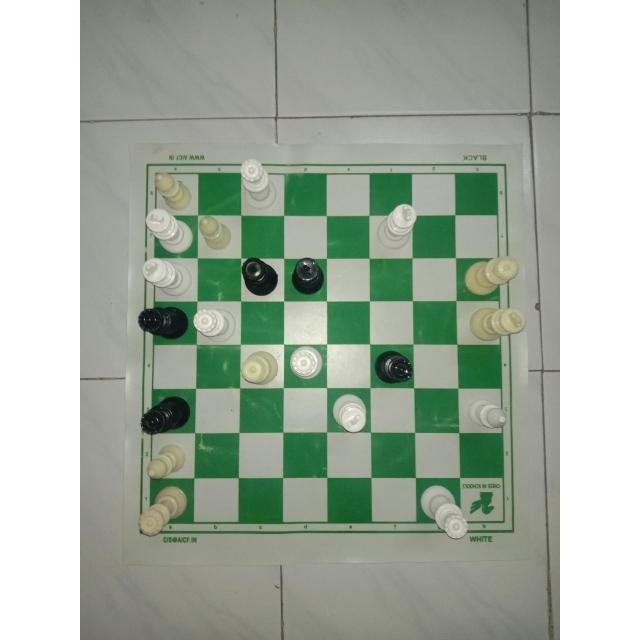black-king: (288, 254, 327, 298)
black-queen: (136, 303, 192, 341), (141, 394, 191, 436), (237, 254, 278, 298), (370, 346, 414, 384)
white-bishop: (144, 440, 191, 480), (464, 396, 513, 431), (152, 168, 192, 208), (195, 214, 235, 253)
white-king: (138, 206, 194, 254), (469, 305, 527, 344), (376, 200, 418, 250), (141, 258, 195, 294), (331, 389, 368, 431)
white-queen: (134, 482, 192, 538), (420, 486, 470, 541), (462, 253, 521, 296), (236, 150, 276, 210), (238, 345, 280, 391), (193, 305, 239, 346), (286, 344, 328, 384)
